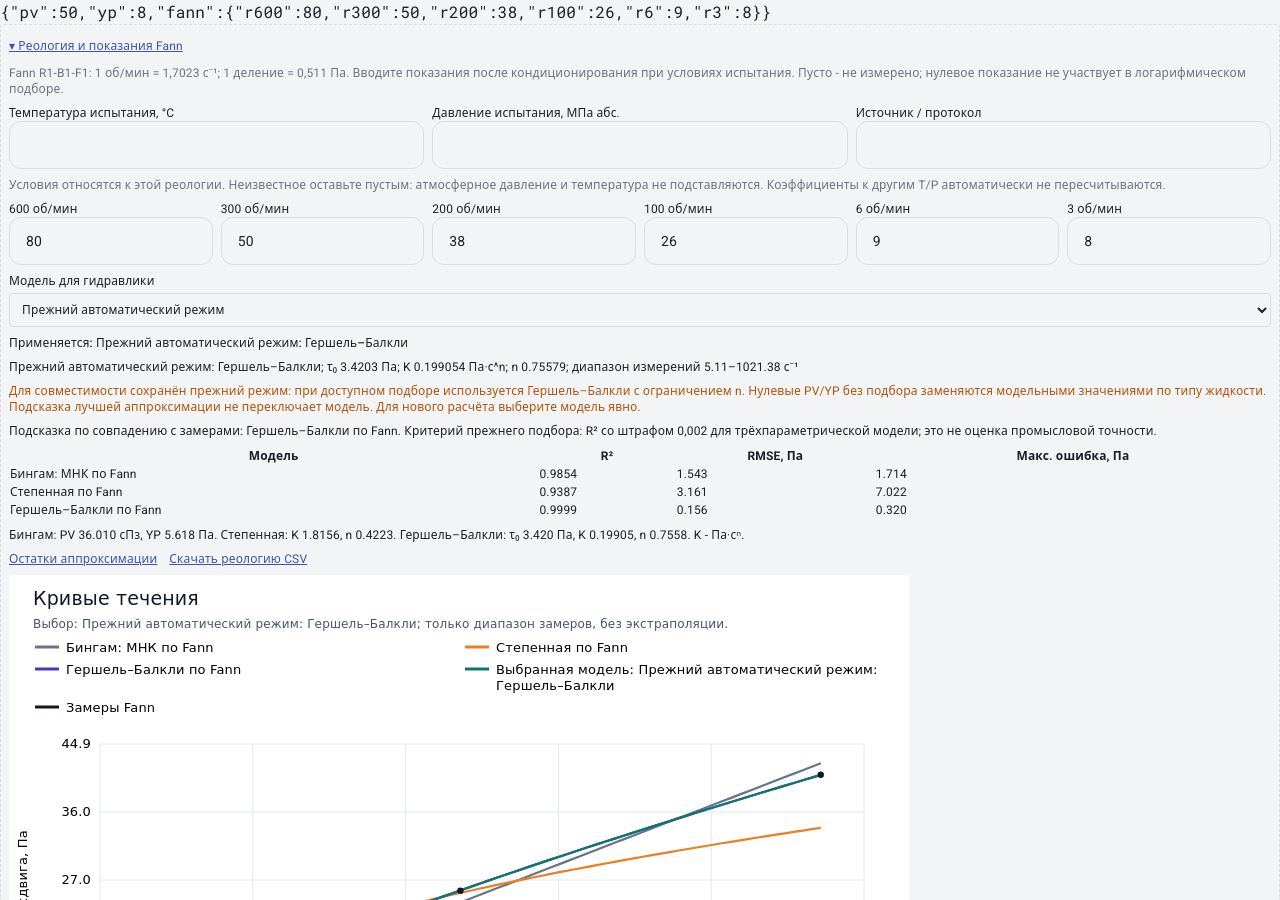
Test: does not confuse recommendation with the applied model and exposes residuals
Later steps or results of the test are not shown.
Expected: the text "Применяется: Прежний автоматический режим: Гершель–Балкли" is shown, x1=9 y1=336 x2=408 y2=350
Select "Бингам: МНК по Fann" in the dropdown labelled "Модель для гидравлики" at (640, 310), box x1=9 y1=293 x2=1271 y2=327
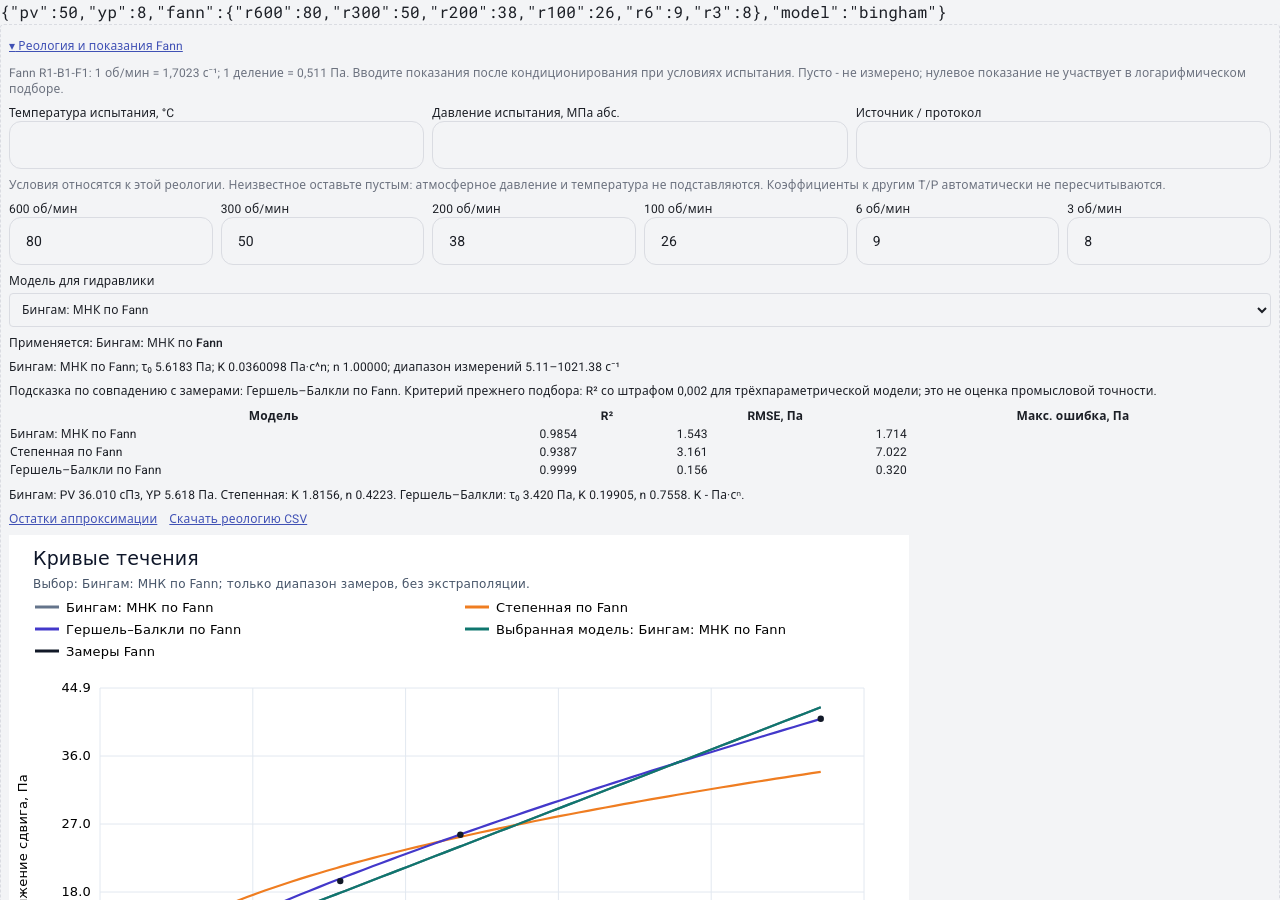
Expected: the text with test id "rheo" shows "\"model\":\"bingham\"", x1=0 y1=1 x2=947 y2=22
Expected: the text "Применяется: Бингам: МНК по Fann" is shown, x1=9 y1=336 x2=223 y2=350
